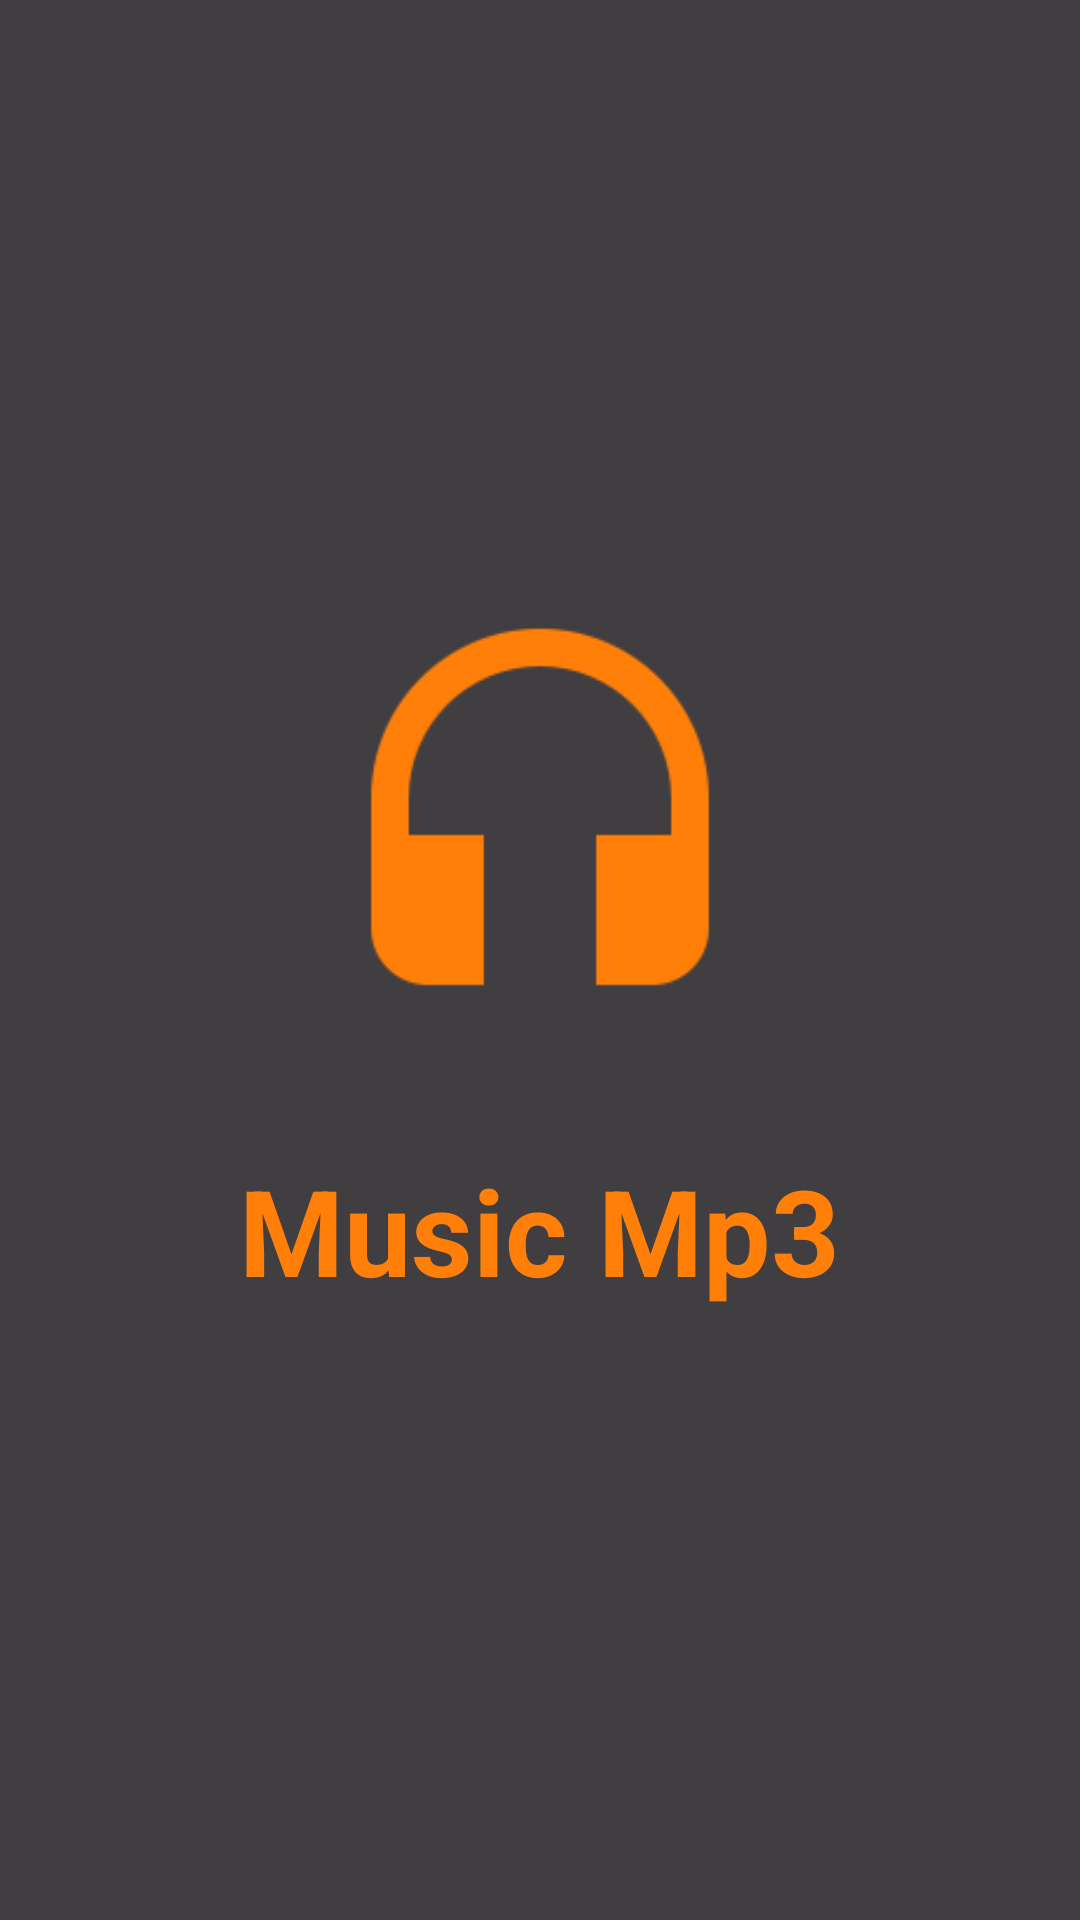

Point at icon controls on the screen. Image size 1080px x 1920px, points as (x=x, y=y).
headset: (x=540, y=807)
